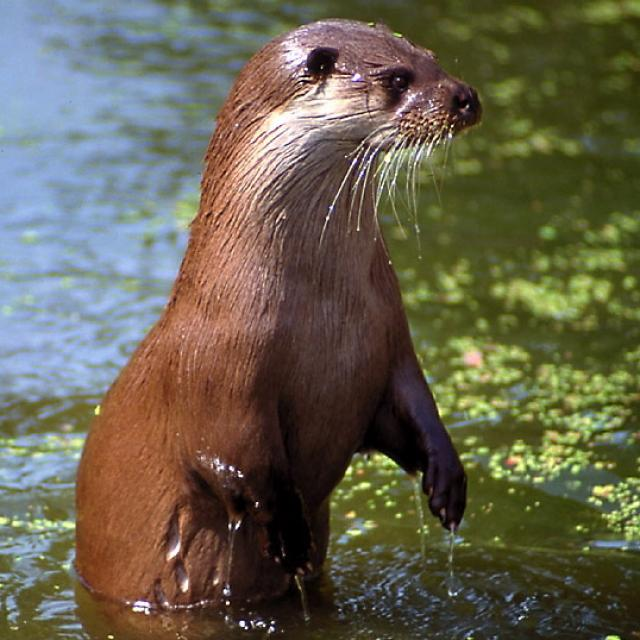otter: (79, 15, 487, 609)
